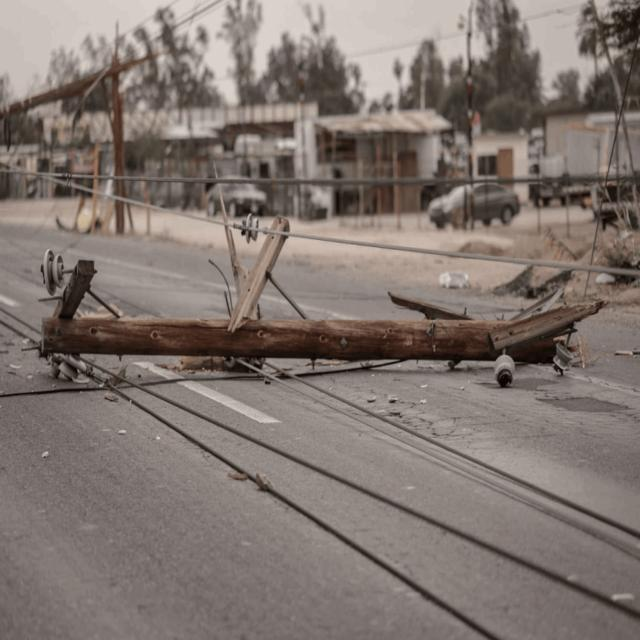Inclined Pole: (38, 204, 600, 410)
